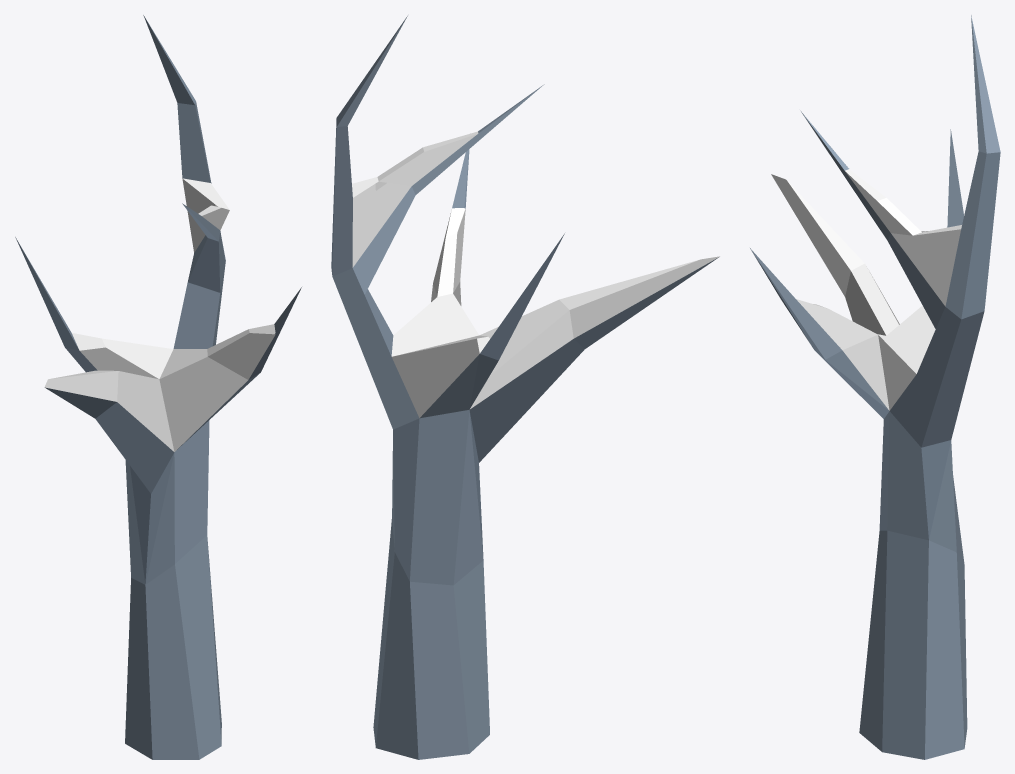
Rendered from TreeWinter6_Alt2.fbx.
3 renders of one model, left to right at view 1: azimuth 30°, elevation 25°; view 2: azimuth 150°, elevation 25°; view 3: azimuth 270°, elevation 25°, orthographic. The views are drawn at different scales.
Visible parts, largest first — view 1: TreeWinter6_Alt2; view 2: TreeWinter6_Alt2; view 3: TreeWinter6_Alt2.
Boxes of the visible parts, <box> form: TreeWinter6_Alt2: <box>15,15,301,759</box>; TreeWinter6_Alt2: <box>331,16,719,759</box>; TreeWinter6_Alt2: <box>750,15,1000,759</box>.
Bounding box in the file's own units: 0.8585 × 2.11 × 0.6677.
